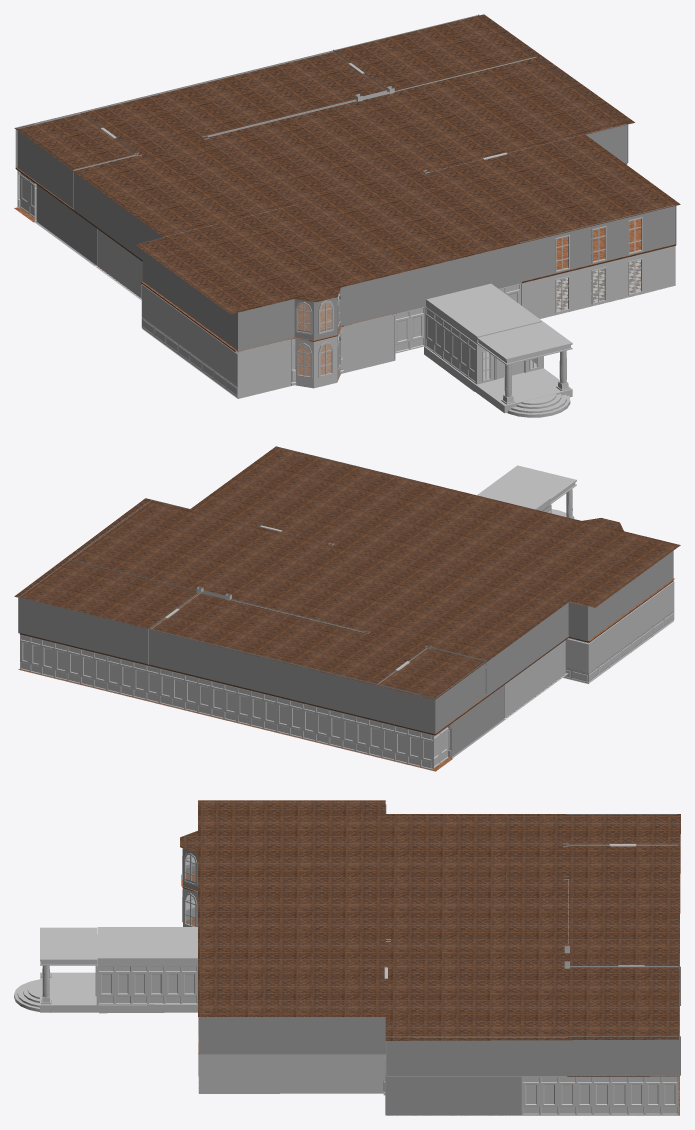
The model's file is Mansion_Map.fbx.
3 views of the same model, one above another, from view 1: azimuth 30°, elevation 25°; view 2: azimuth 150°, elevation 25°; view 3: azimuth 270°, elevation 25° (orthographic). The views are drawn at different scales.
Parts seen in each view (by area): view 1: Main_Celling, MansionBase, Floor_2nd, Dining_Floor, Second_Celling, LivingRoom_Floor; view 2: Main_Celling, MansionBase, Second_Celling, Floor_1st; view 3: Main_Celling, MansionBase.
Boxes of the visible parts, x1,y1,x2,y2 form: Main_Celling: (14, 14, 680, 314); MansionBase: (15, 14, 676, 417); Floor_2nd: (16, 167, 675, 351); Dining_Floor: (541, 260, 675, 318); Second_Celling: (15, 163, 675, 351); LivingRoom_Floor: (298, 344, 340, 381); Main_Celling: (14, 446, 680, 699); MansionBase: (18, 447, 674, 770); Second_Celling: (19, 580, 673, 735); Floor_1st: (18, 669, 452, 771); Main_Celling: (180, 800, 680, 1040); MansionBase: (14, 804, 680, 1115).
Bounding box in the file's own units: 198 × 35.42 × 232.
